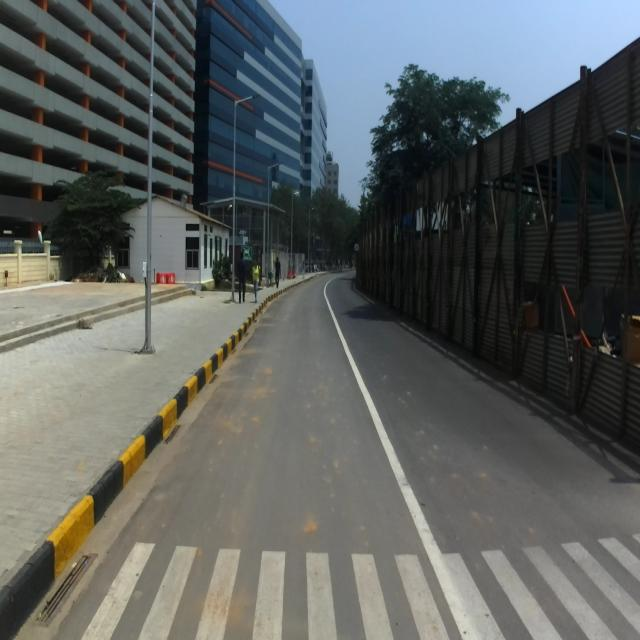zebra crossing ahead at: (68, 522, 639, 640)
